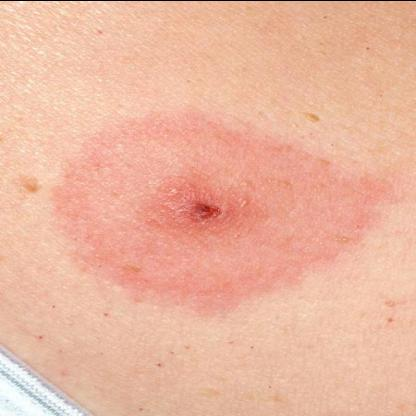Tick: (51, 107, 396, 319)
